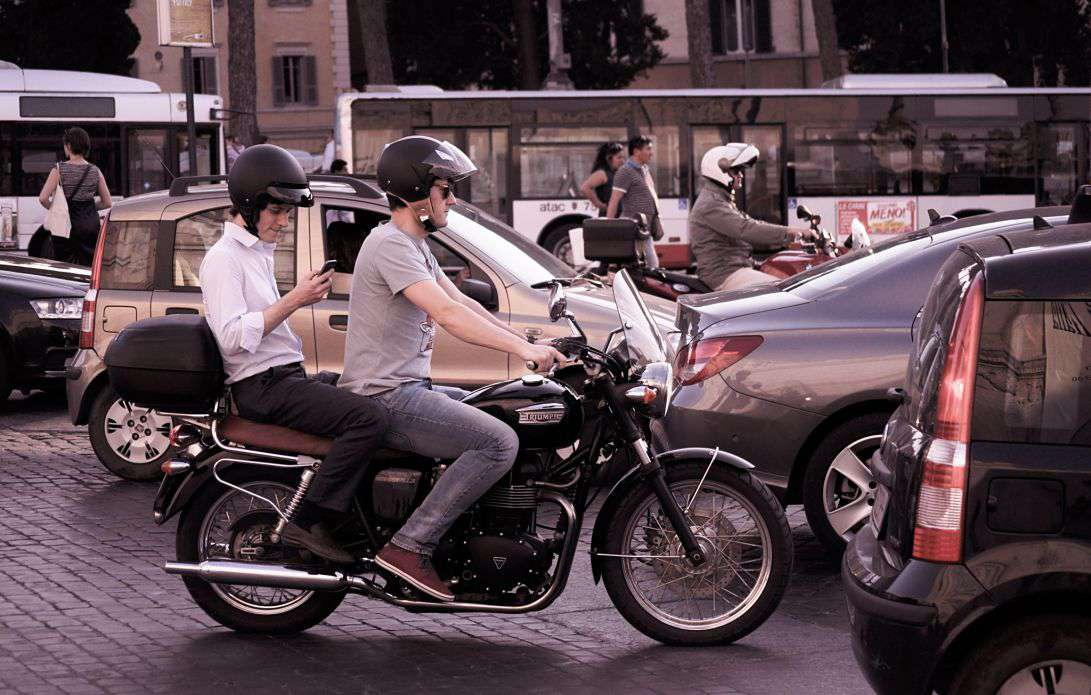helmet: (232, 143, 310, 210), (383, 136, 473, 189), (703, 140, 739, 185)
